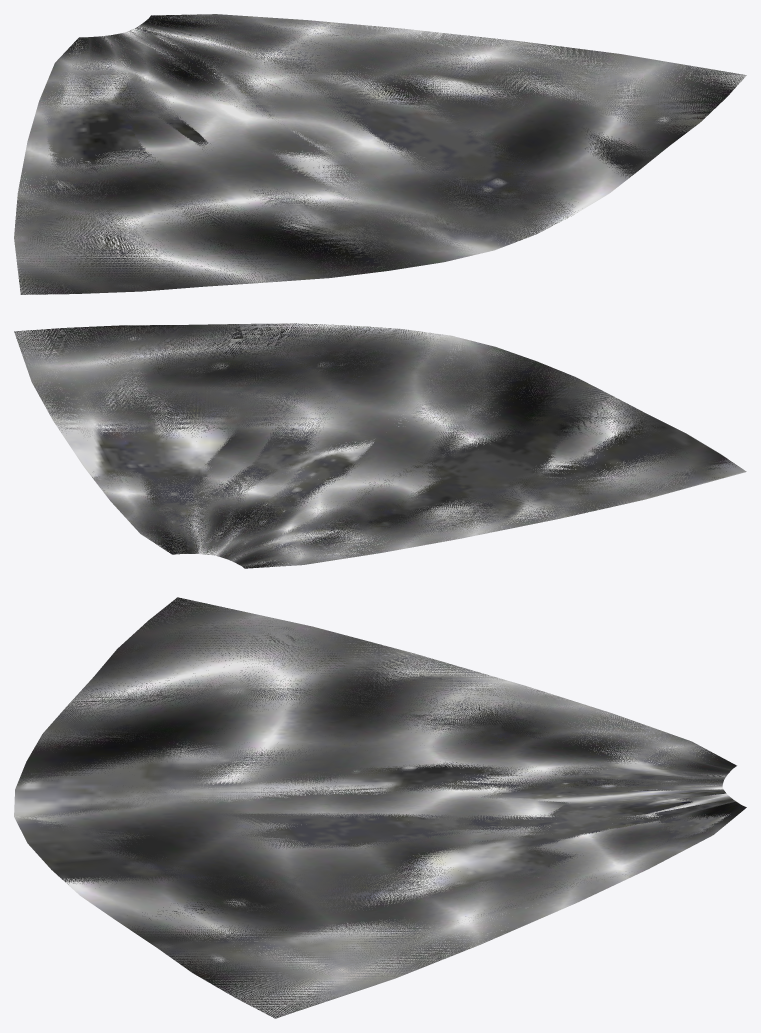
Rendered from effect_axiuluo_atk05_atk_dongzuo.fbx.
The picture shows the model from 3 angles, top to bottom: view 1: azimuth 30°, elevation 25°; view 2: azimuth 150°, elevation 25°; view 3: azimuth 270°, elevation 25°; orthographic projection. The views are drawn at different scales.
Visible parts, largest first — view 1: effect_axiuluo_atk05_Plane001, effect_axiuluo_atk05_Plane001 (1); view 2: effect_axiuluo_atk05_Plane001, effect_axiuluo_atk05_Plane001 (1); view 3: effect_axiuluo_atk05_Plane001, effect_axiuluo_atk05_Plane001 (1).
Part boxes in pixels (x1,y1,x2,y2): effect_axiuluo_atk05_Plane001: (14, 14, 743, 294); effect_axiuluo_atk05_Plane001 (1): (14, 14, 746, 294); effect_axiuluo_atk05_Plane001: (14, 323, 736, 568); effect_axiuluo_atk05_Plane001 (1): (14, 323, 746, 567); effect_axiuluo_atk05_Plane001: (15, 597, 746, 1018); effect_axiuluo_atk05_Plane001 (1): (14, 597, 735, 1018).
Bounding box in the file's own units: 5.97 × 8.84e-08 × 4.39.
